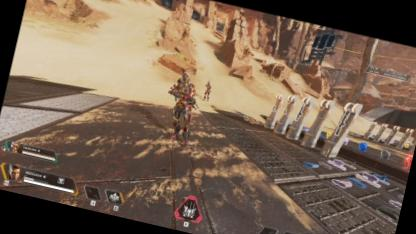Target: (162, 72, 202, 144), (201, 80, 213, 100)
